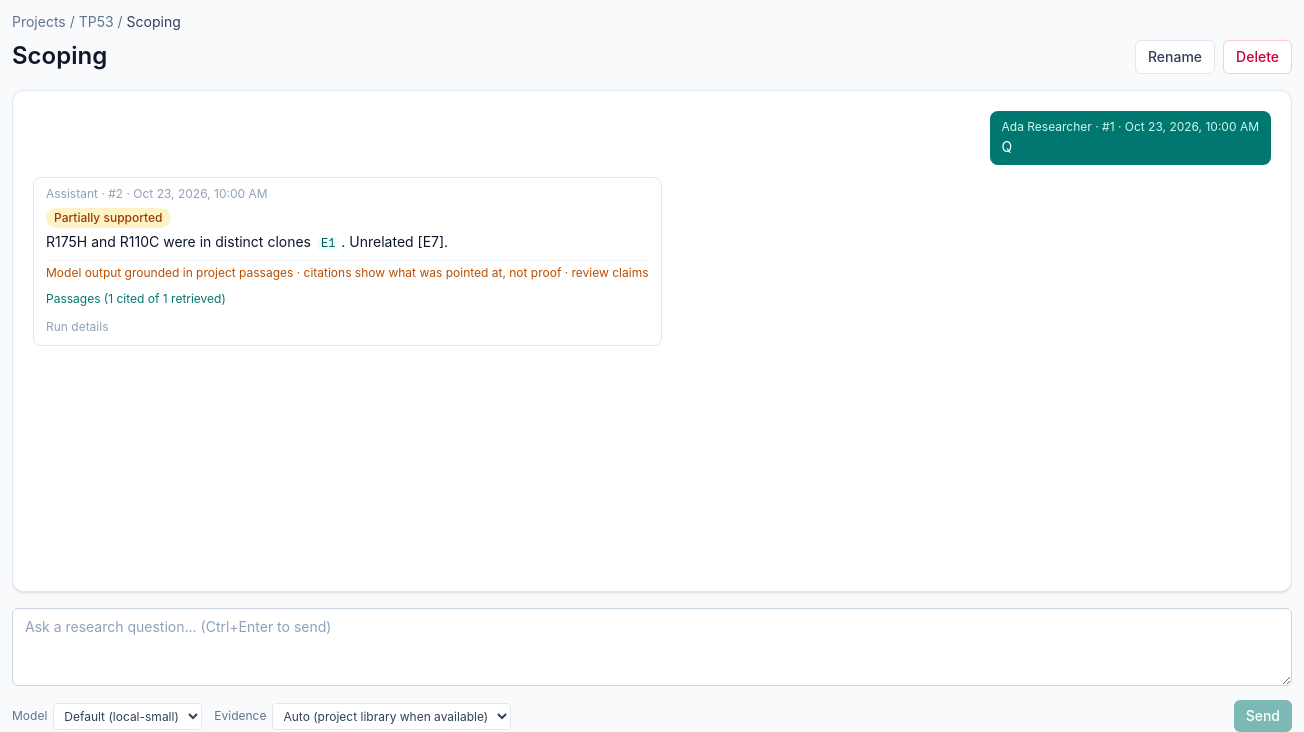
it: ConversationPage › links validated citations to stored passages and labels the answer class
Expected: the text "R175H and R110C were in distinct clones E1 . Unrelated [E7]." is shown, top-left (46, 233), bottom-right (448, 251)
Expected: the text "Partially supported" is shown, top-left (46, 208), bottom-right (170, 228)
Click the button "Passages (1 cited of 1 retrieved)". click: click(136, 299)
box: top-left (46, 291), bottom-right (226, 307)
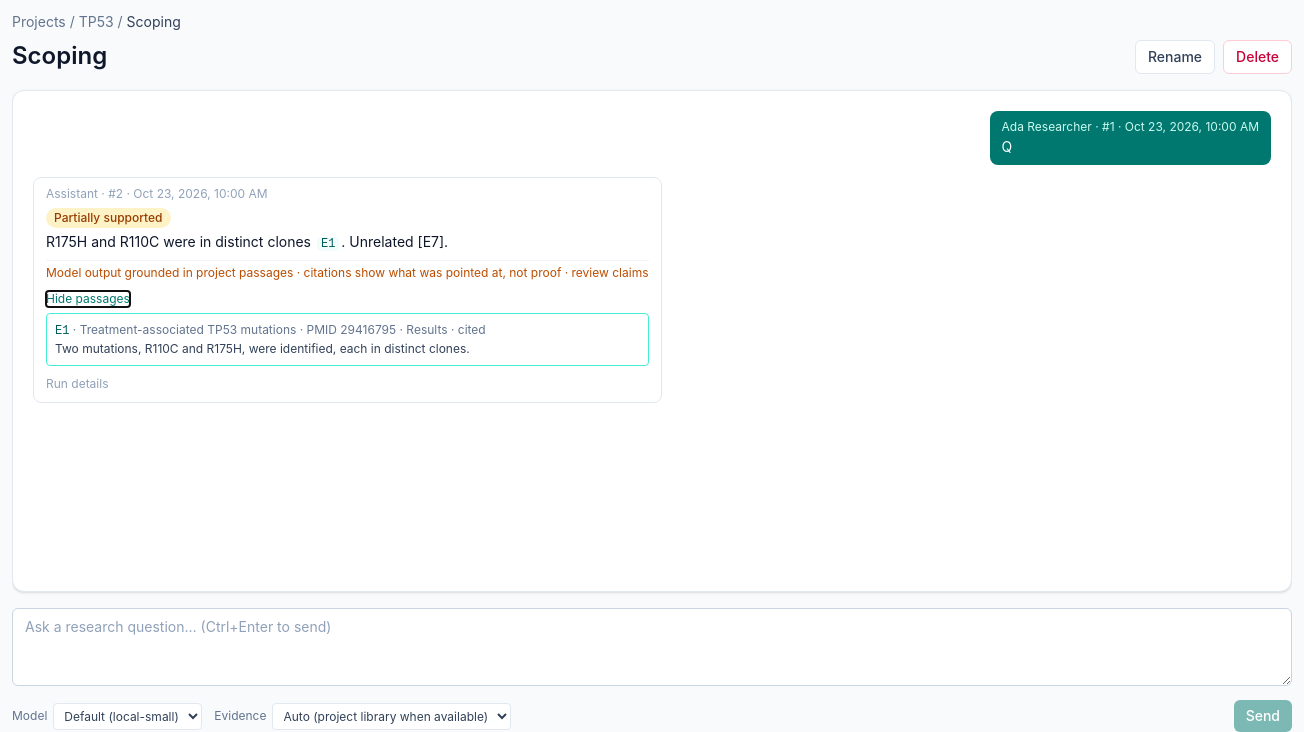
Result: the text "Two mutations, R110C and R175H, were identified, each in distinct clones." is shown at top-left (55, 341), bottom-right (470, 356)
